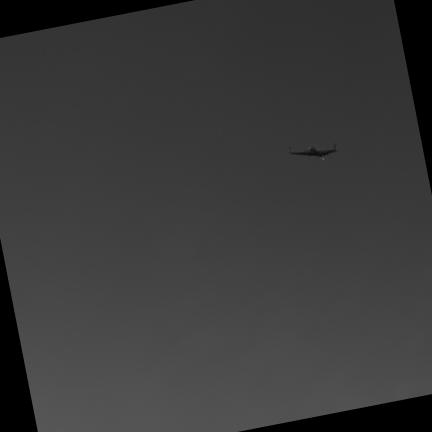Shahed: (289, 144, 336, 159)
